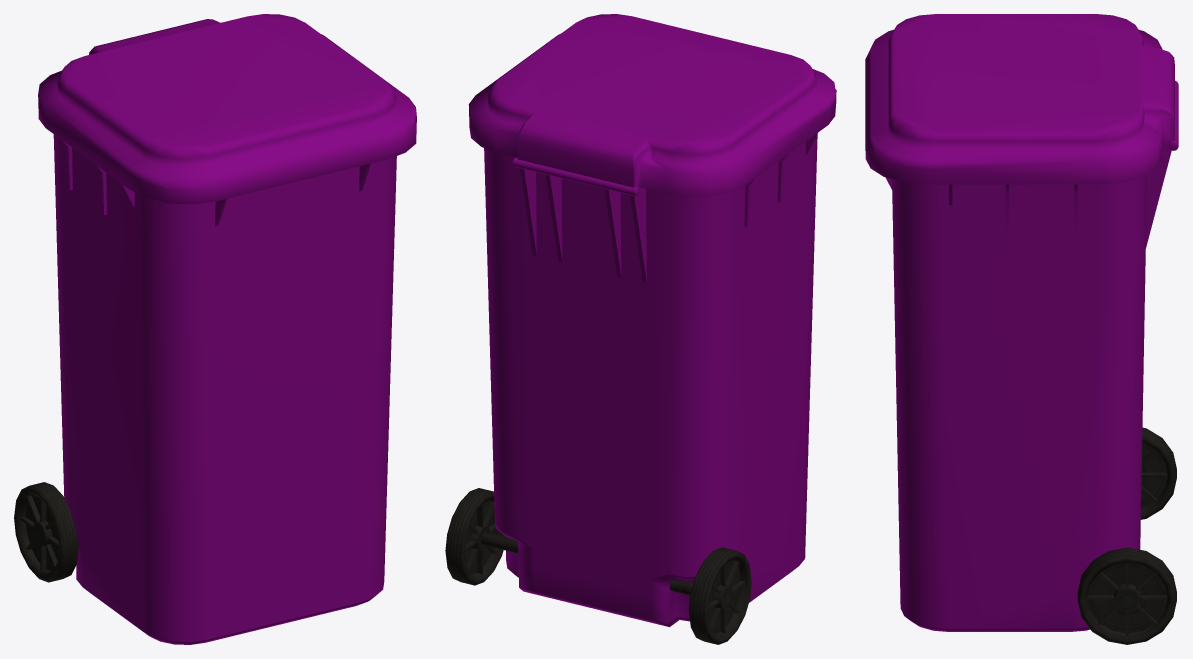
Rendered from violet.glb.
3 views of the same model, side by side, from view 1: azimuth 30°, elevation 25°; view 2: azimuth 150°, elevation 25°; view 3: azimuth 270°, elevation 25° (orthographic). The views are drawn at different scales.
Parts seen in each view (by area): view 1: polySurface52; view 2: polySurface52; view 3: polySurface52.
Boxes of the visible parts, x1,y1,x2,y2 form: polySurface52: (14,14,416,644); polySurface52: (445,14,836,644); polySurface52: (865,14,1178,644).
Size of the model in its own units: 77 by 134 by 74.63.
2 materials, 2 textured.
